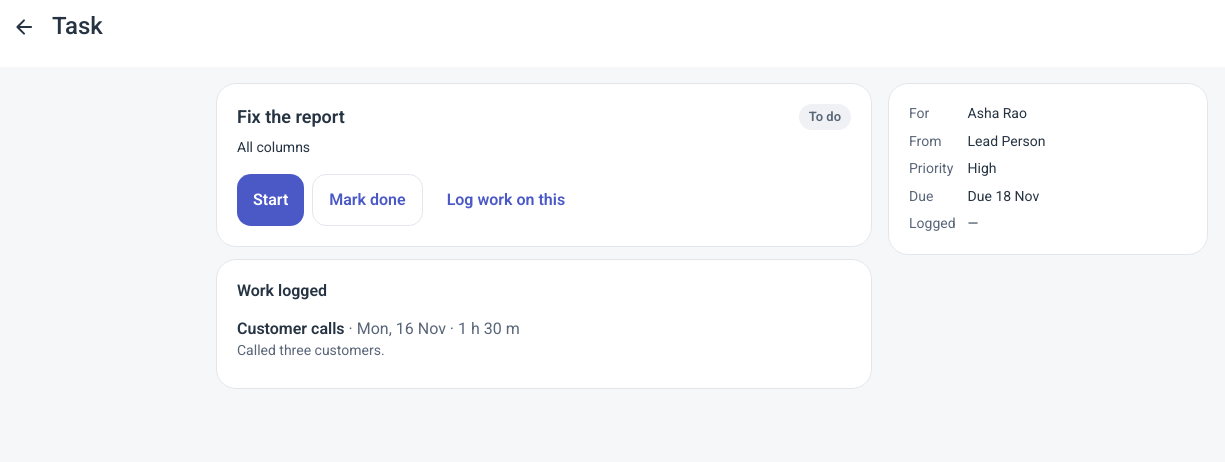
it: Task detail › the assignee moves it along with the current version
This screenshot has width=1225, height=462.
Expected: the text "Customer calls" is shown, [237,319,345,338]
Click the button "Start" at [271, 200], box [237,174,304,226]
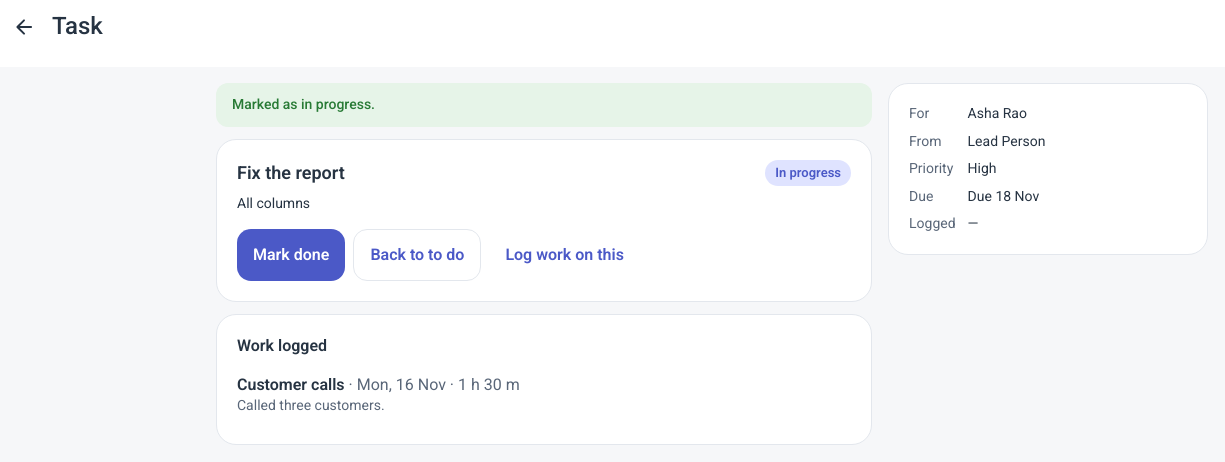
Expected: the button "Mark done" is shown, [237,229,345,281]
Result: the text "Marked as in progress." is shown at [216,83,872,127]
